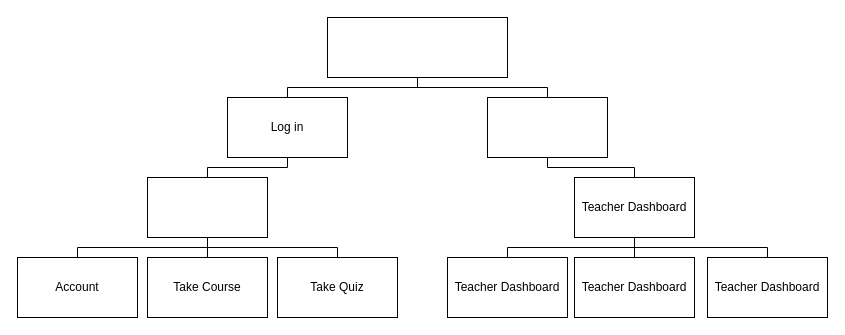
The diagram is 845 pixels wide and 335 high, and some of its shapes have lost their labels. Here are the shapes that lost their labels. From the top down, the centre of each, then its label:
(x=417, y=47): Home
(x=547, y=127): Sign Up
(x=207, y=207): User Dashboard
